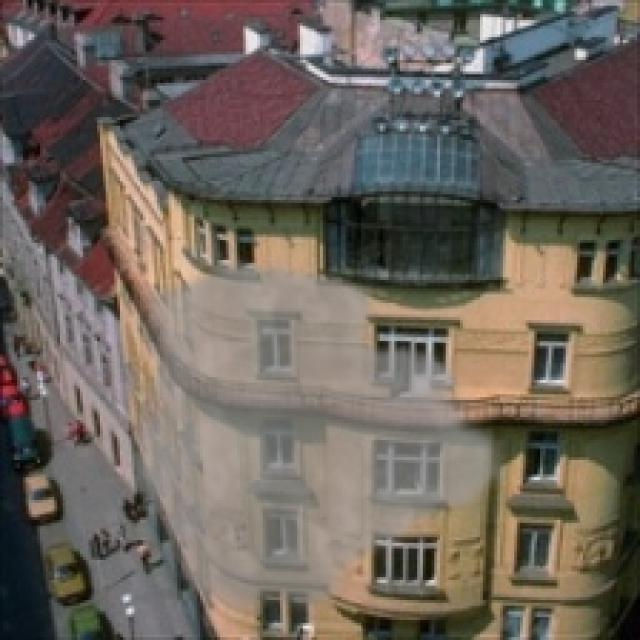Smoke: (126, 254, 514, 623)
